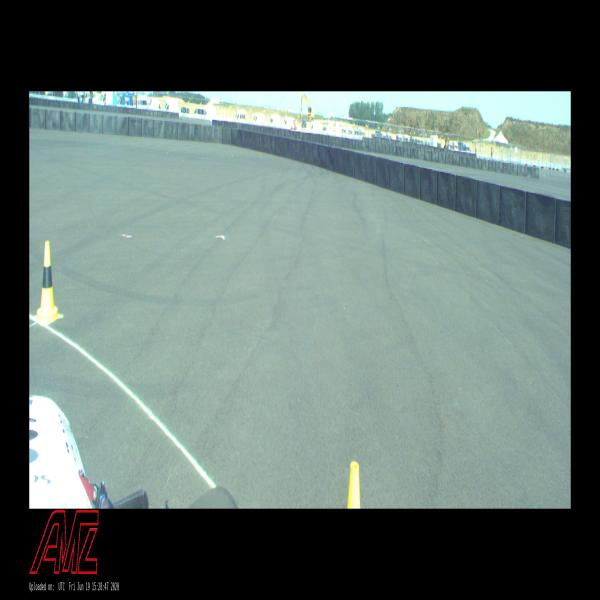yellow_cone: (35, 241, 60, 324), (347, 461, 360, 508)
